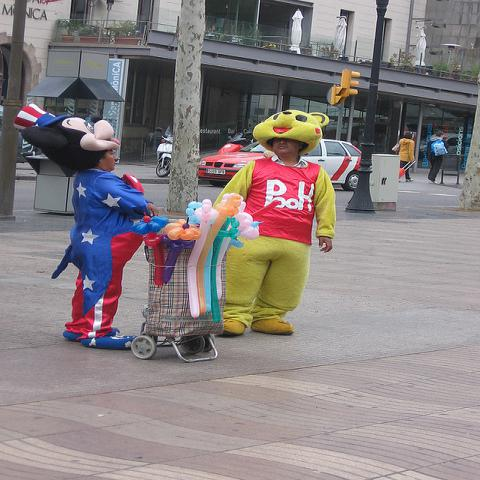car: (196, 139, 361, 190), (0, 104, 30, 164), (420, 131, 461, 157), (217, 131, 258, 152)
motorcycle: (149, 128, 173, 177), (219, 130, 255, 154)
